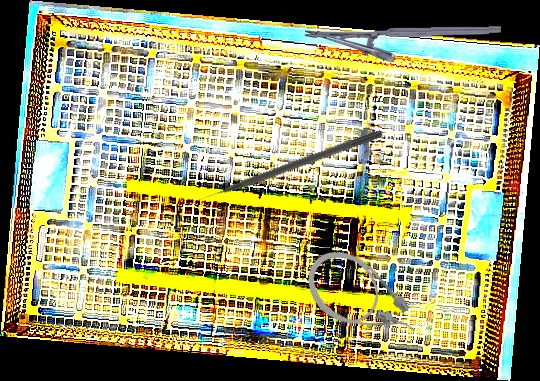Cannula: (294, 237, 429, 364)
Needle Holder: (304, 25, 502, 64)
Pusher: (190, 126, 384, 207)
